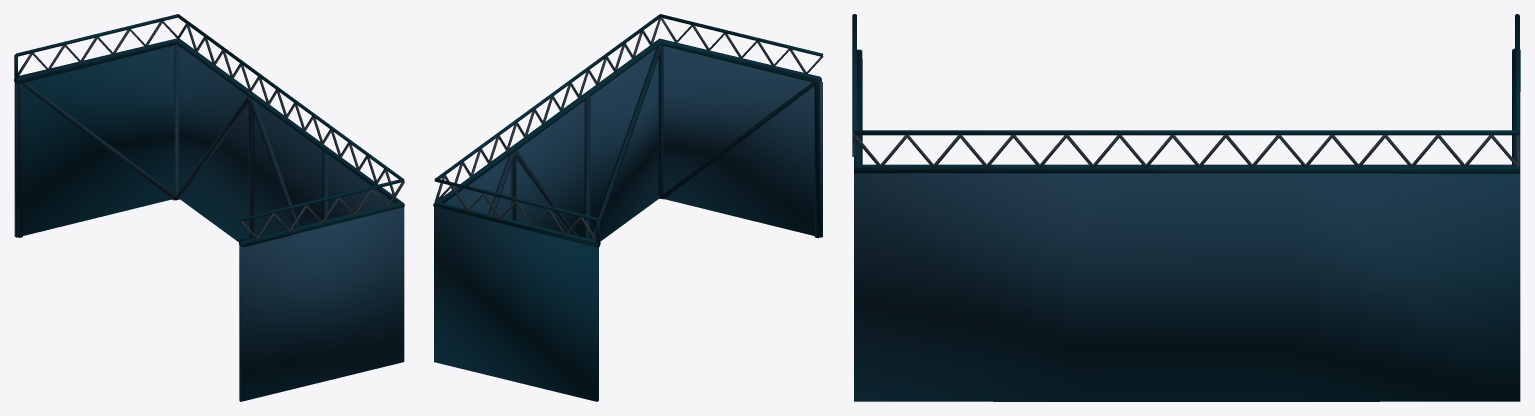
The model's file is tank stand.fbx.
3 views of the same model, side by side, from view 1: azimuth 30°, elevation 25°; view 2: azimuth 150°, elevation 25°; view 3: azimuth 270°, elevation 25° (orthographic). The views are drawn at different scales.
Visible parts, largest first — view 1: Cube.082; view 2: Cube.082; view 3: Cube.082.
Boxes of the visible parts, <box> form: Cube.082: <box>14,14,404,401</box>; Cube.082: <box>433,14,823,401</box>; Cube.082: <box>852,14,1520,401</box>.
Bounding box in the file's own units: 432 × 459 × 1028.
